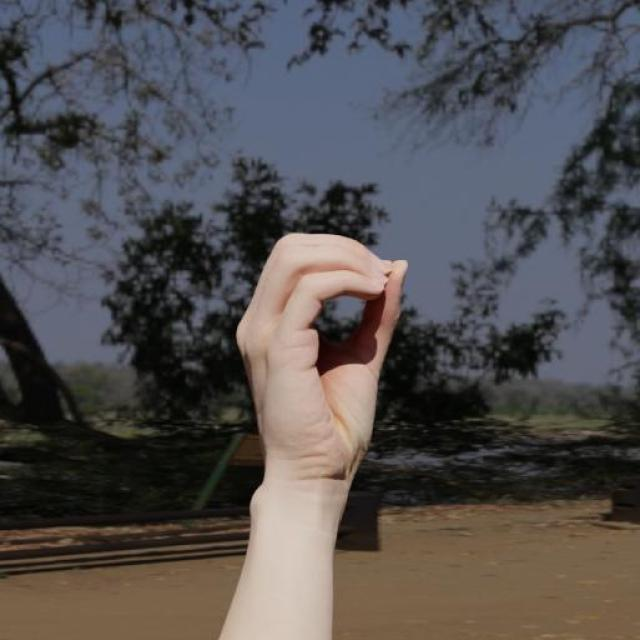O: (229, 222, 416, 522)
